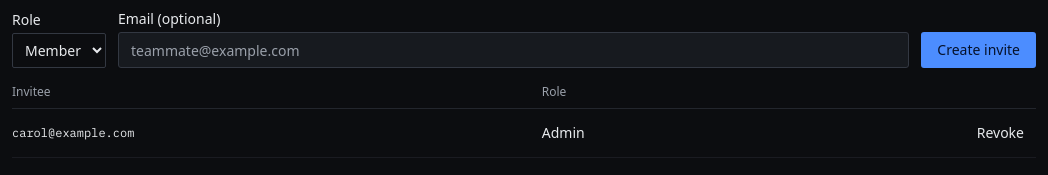
Test: lists pending invites and revokes one
The width and height of the screenshot is (1048, 175).
Check: the text "carol@example.com" is shown, box [12,108,542,158]
What coordinates should you click on to do the following:
click the button "Revoke"
I would click on:
 (1000, 133)
Its box is [965,117,1036,149].
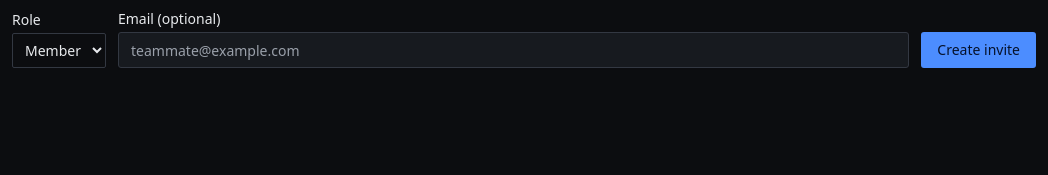
Check: the text "carol@example.com" is gone
